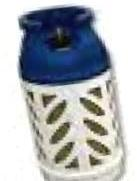cylinder: (1, 0, 137, 181)
